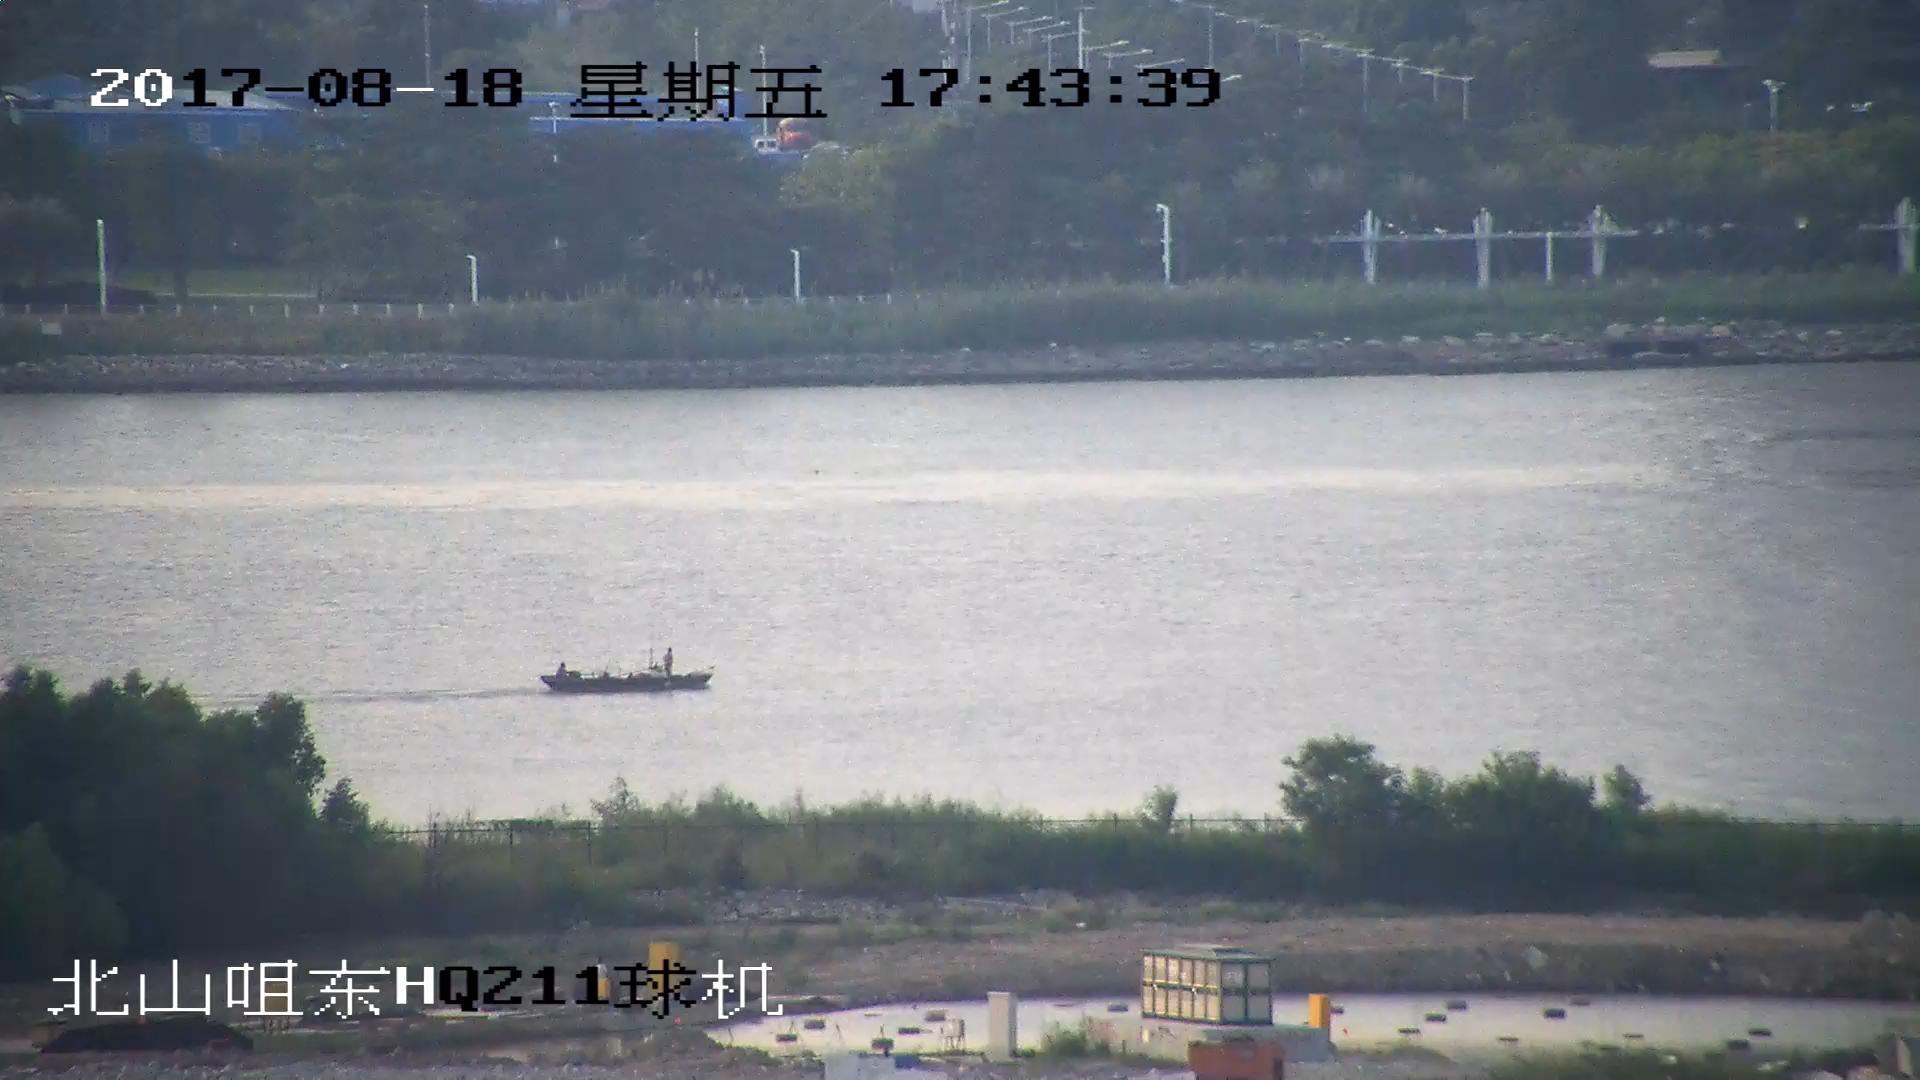fishing boat: (540, 651, 713, 696)
